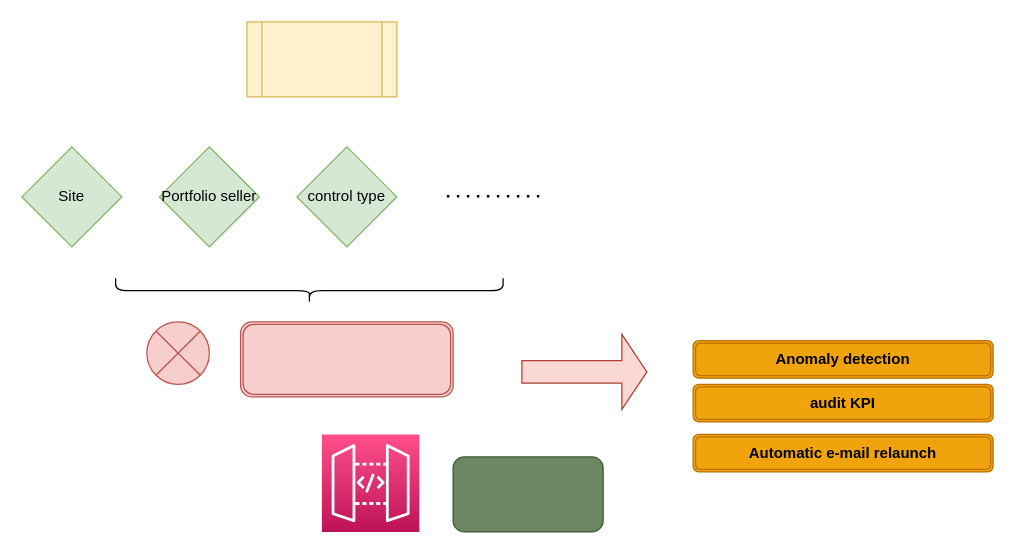
The diagram is 1015 pixels wide and 554 high, and some of its shapes have lost their labels. The shapes that lost their labels are listed below. From the top down, each one's centre as x and y in pixels, then its label:
At pixel 321 59: "internal audit files".
At pixel 346 359: "Standardization and aggregation of internal audit files".
At pixel 527 494: "Via a Streamlit App".
